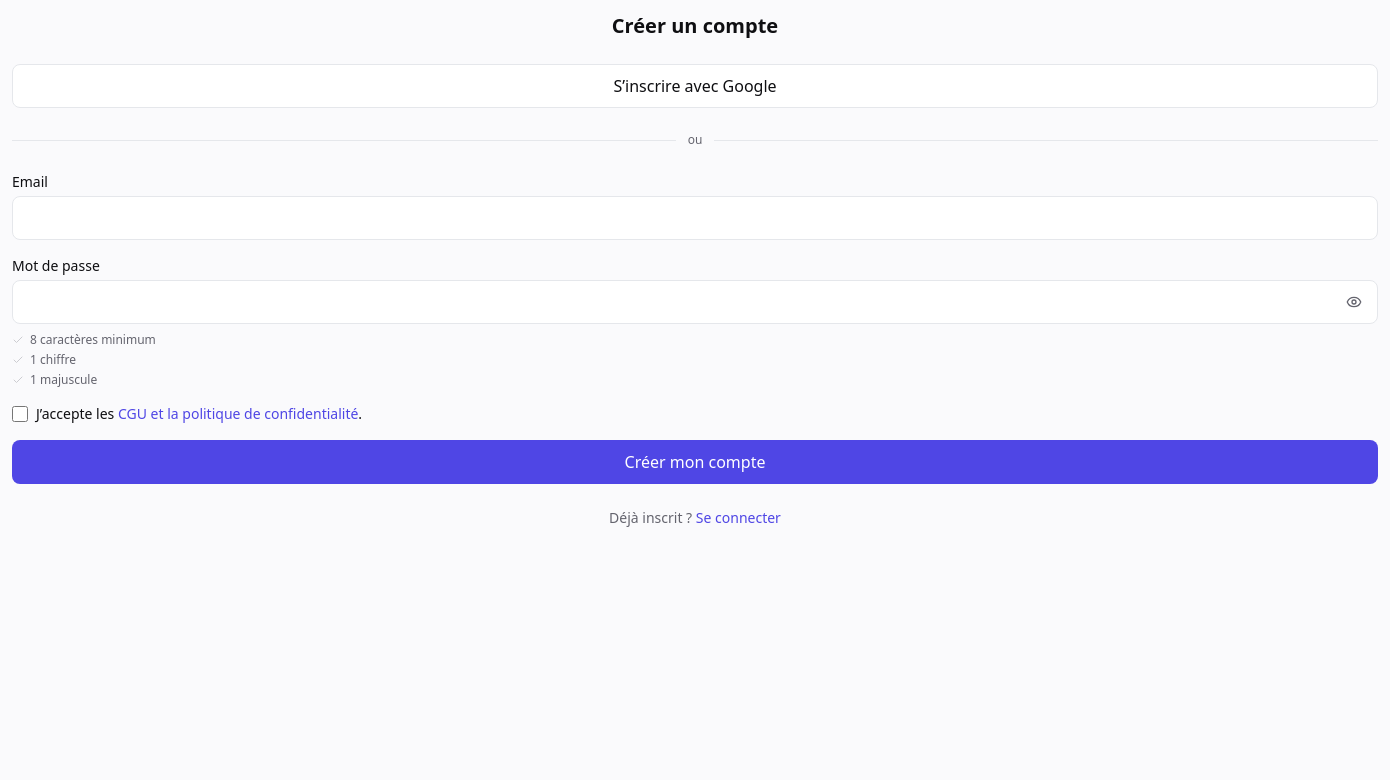
SignupPage › shows a toast when the OAuth provider is not configured
Click the button "S’inscrire avec Google".
click(695, 86)  # box [12,64,1378,108]
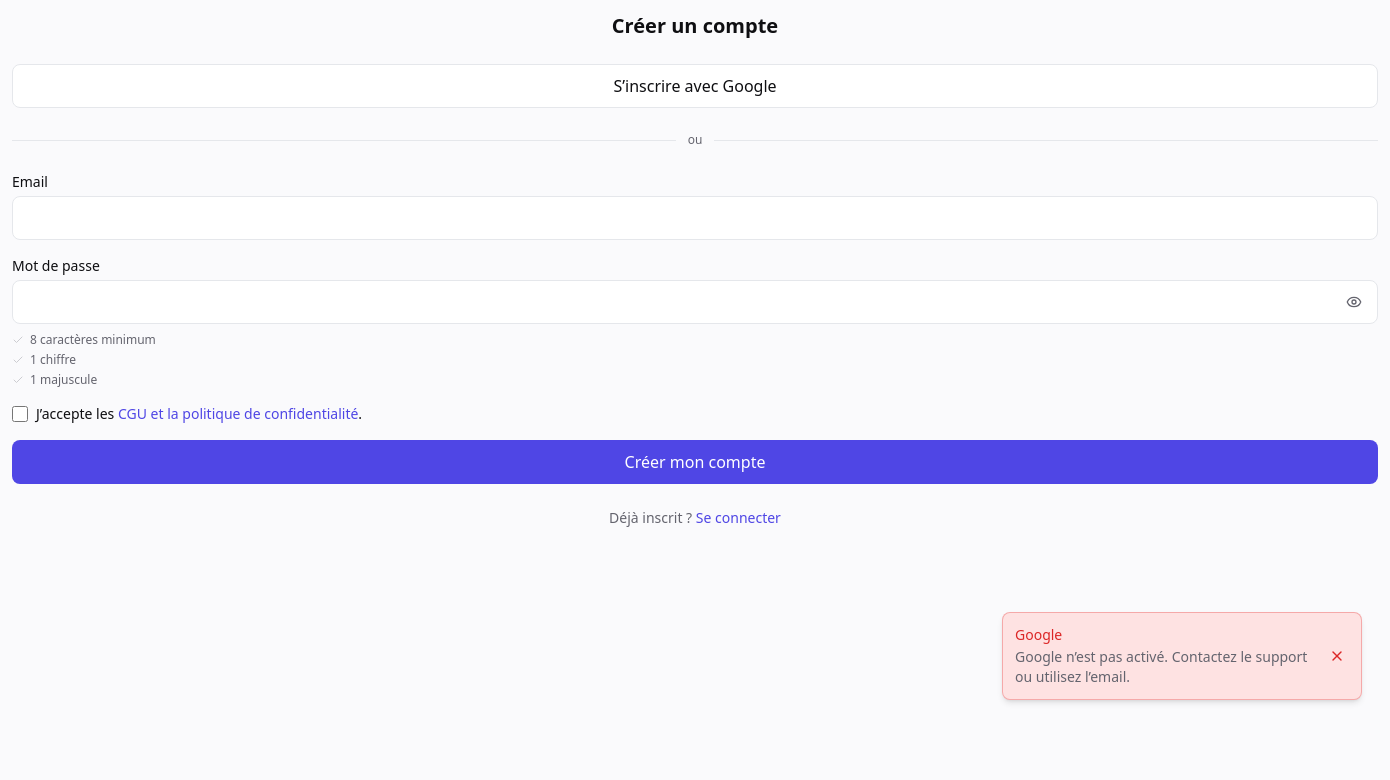
Expected: the text "Google n’est pas activé" is shown, [1015,647,1307,686]
